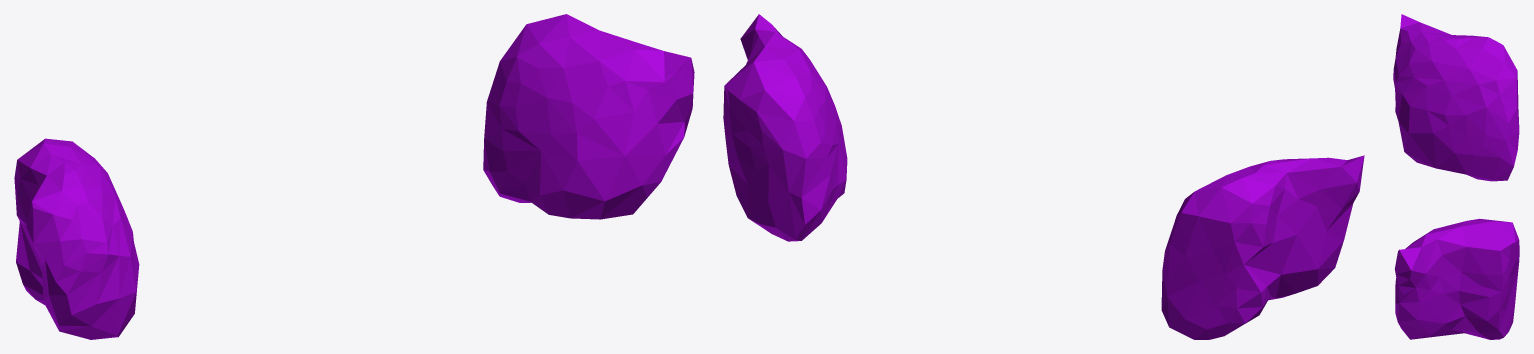
Rendered from 186-VCo-ventral cortical amygdaloid nucleus-('0.7686', '0.0000', '1.0000').obj.
3 views of the same model, side by side, from view 1: azimuth 30°, elevation 25°; view 2: azimuth 150°, elevation 25°; view 3: azimuth 270°, elevation 25° (orthographic). The views are drawn at different scales.
Bounding box in the file's own units: 108 × 27.37 × 24.72.
